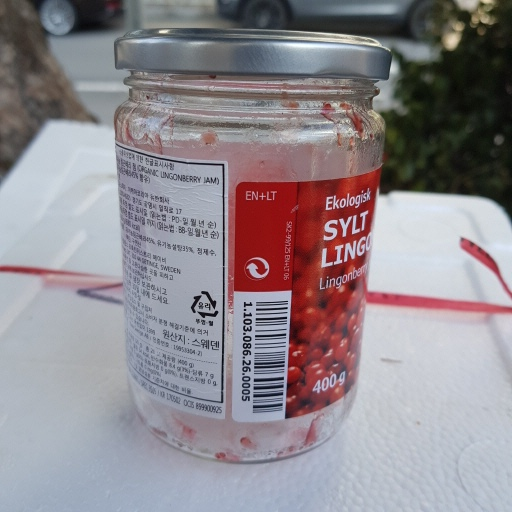Glass_5: (109, 22, 394, 462)
